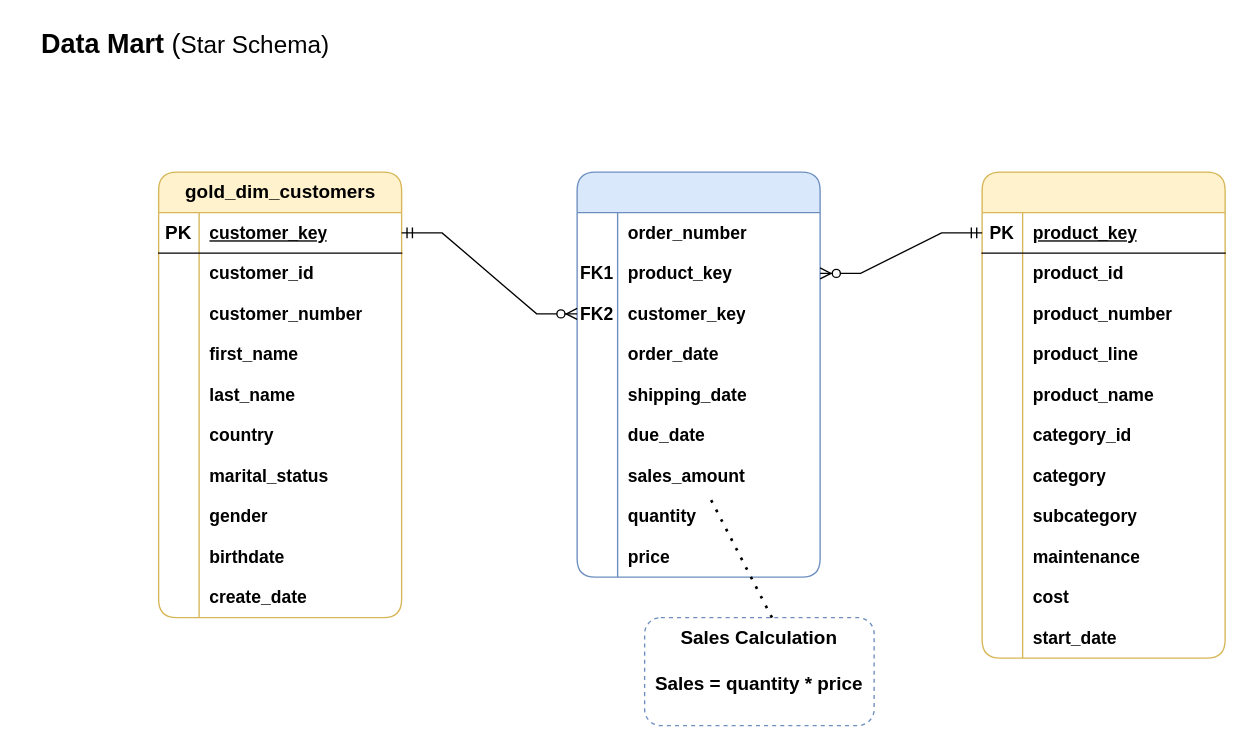
The diagram is 1249 pixels wide and 749 high, and some of its shapes have lost their labels. The box of each missing label's shape, as (x1, y1, x2, y2) in pixels:
gold_dim_products: (981, 171, 1225, 658)
gold_fact_sales: (576, 171, 820, 577)
